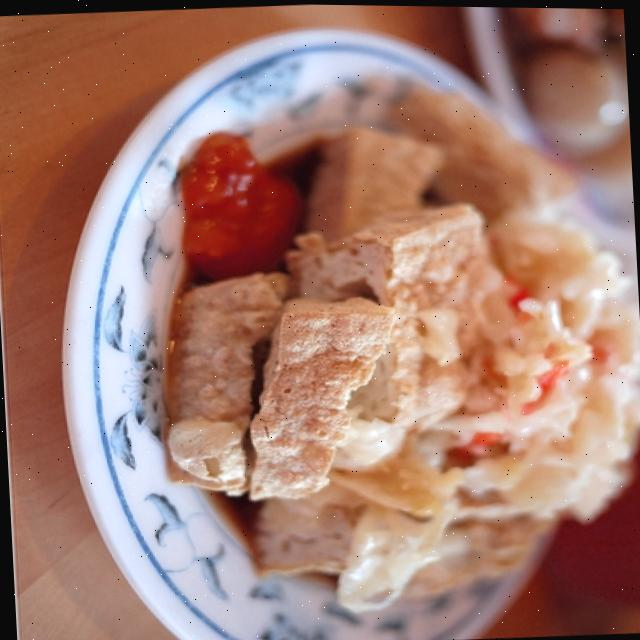豆腐料理: (66, 19, 640, 640)
